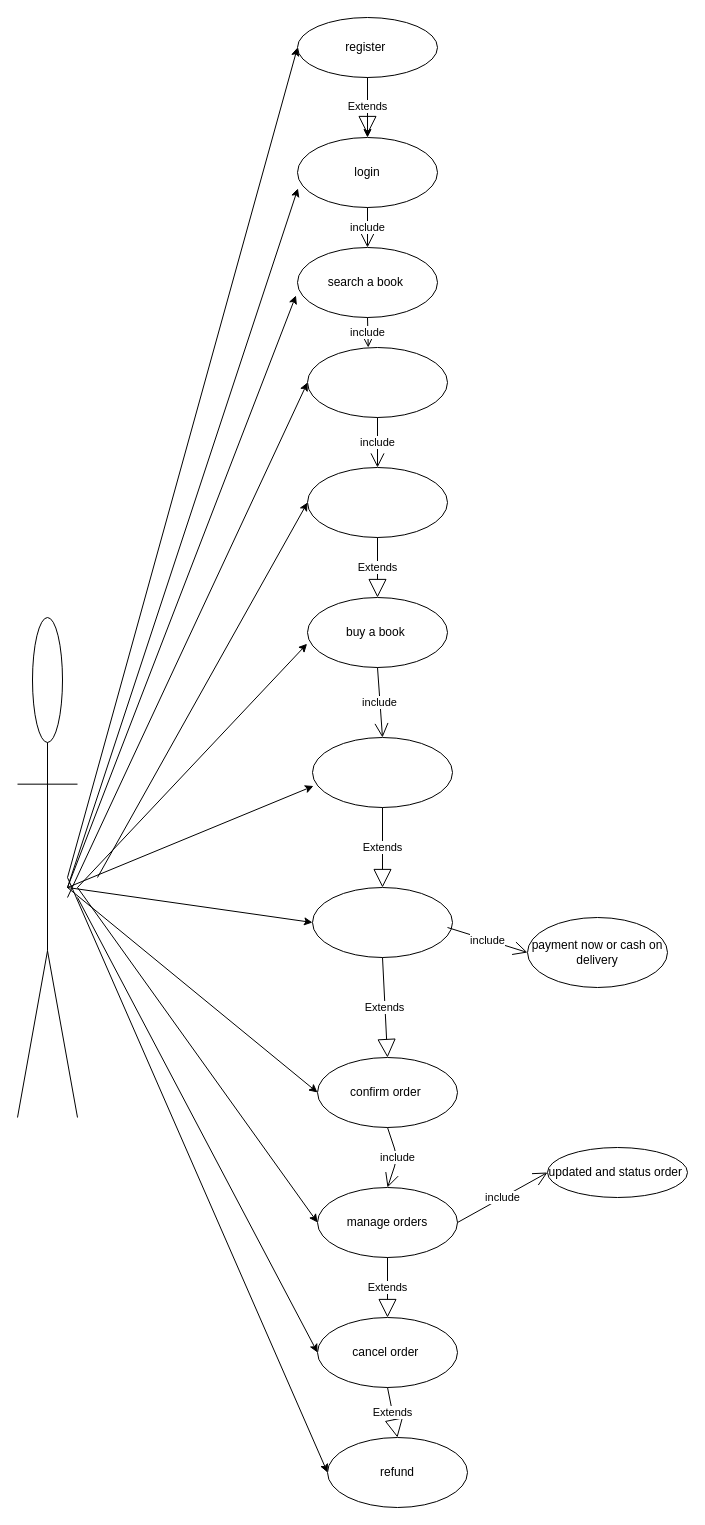
Some shapes in this 705 by 1525 pixel diagram are drawn without their labels. The shapes that lost their labels are listed below. From the top down, each one's box as (x1, y1, x2, y2) in pixels, then its label:
(306, 346, 448, 418): available or not
(306, 466, 448, 538): add to cart
(312, 736, 452, 808): delivery location confirm
(16, 616, 78, 1118): customer
(312, 886, 452, 958): payment details
